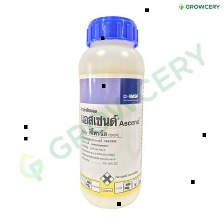insecticide: (75, 12, 145, 211)
